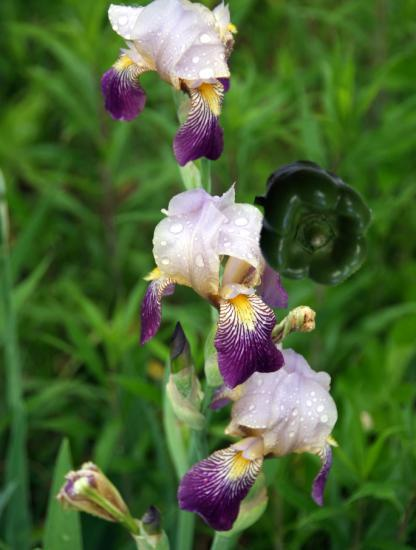Pepper: (250, 161, 377, 288)
